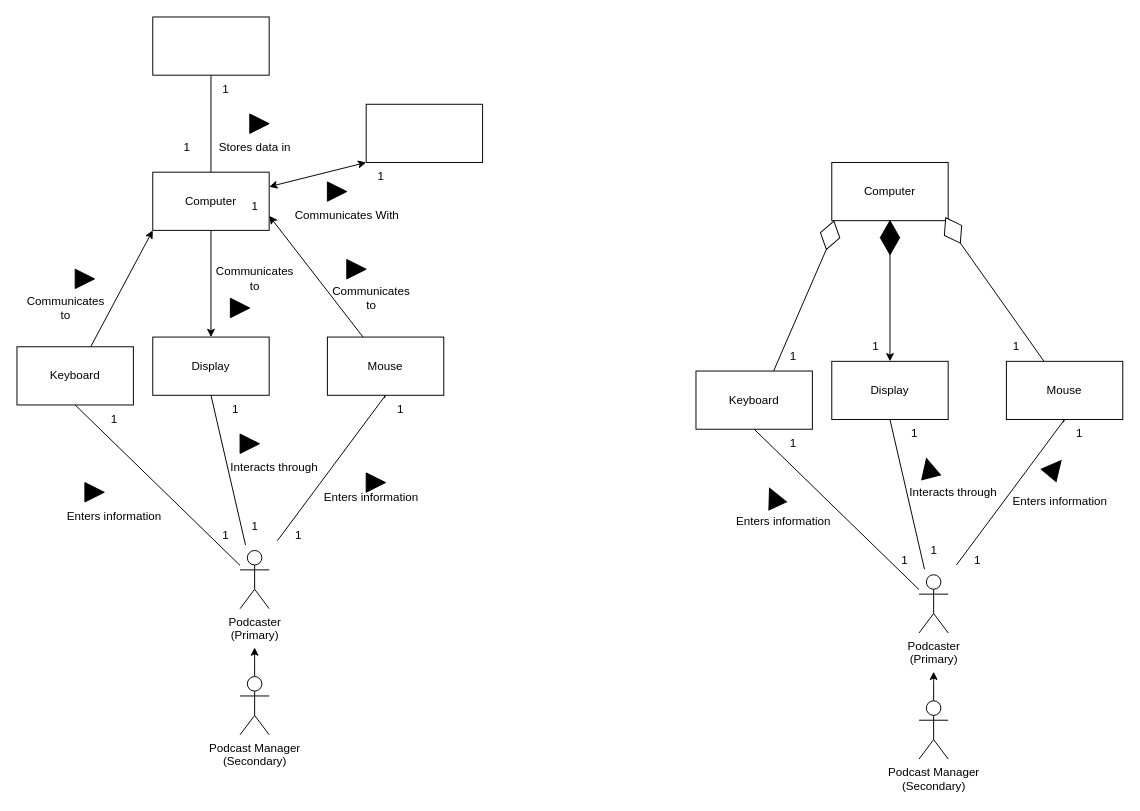
This 1140x811 diagram has some shape labels left out. The centre of each missing label's shape, as x and y in pixels:
Cloud: [424,132]
Database: [210,45]
